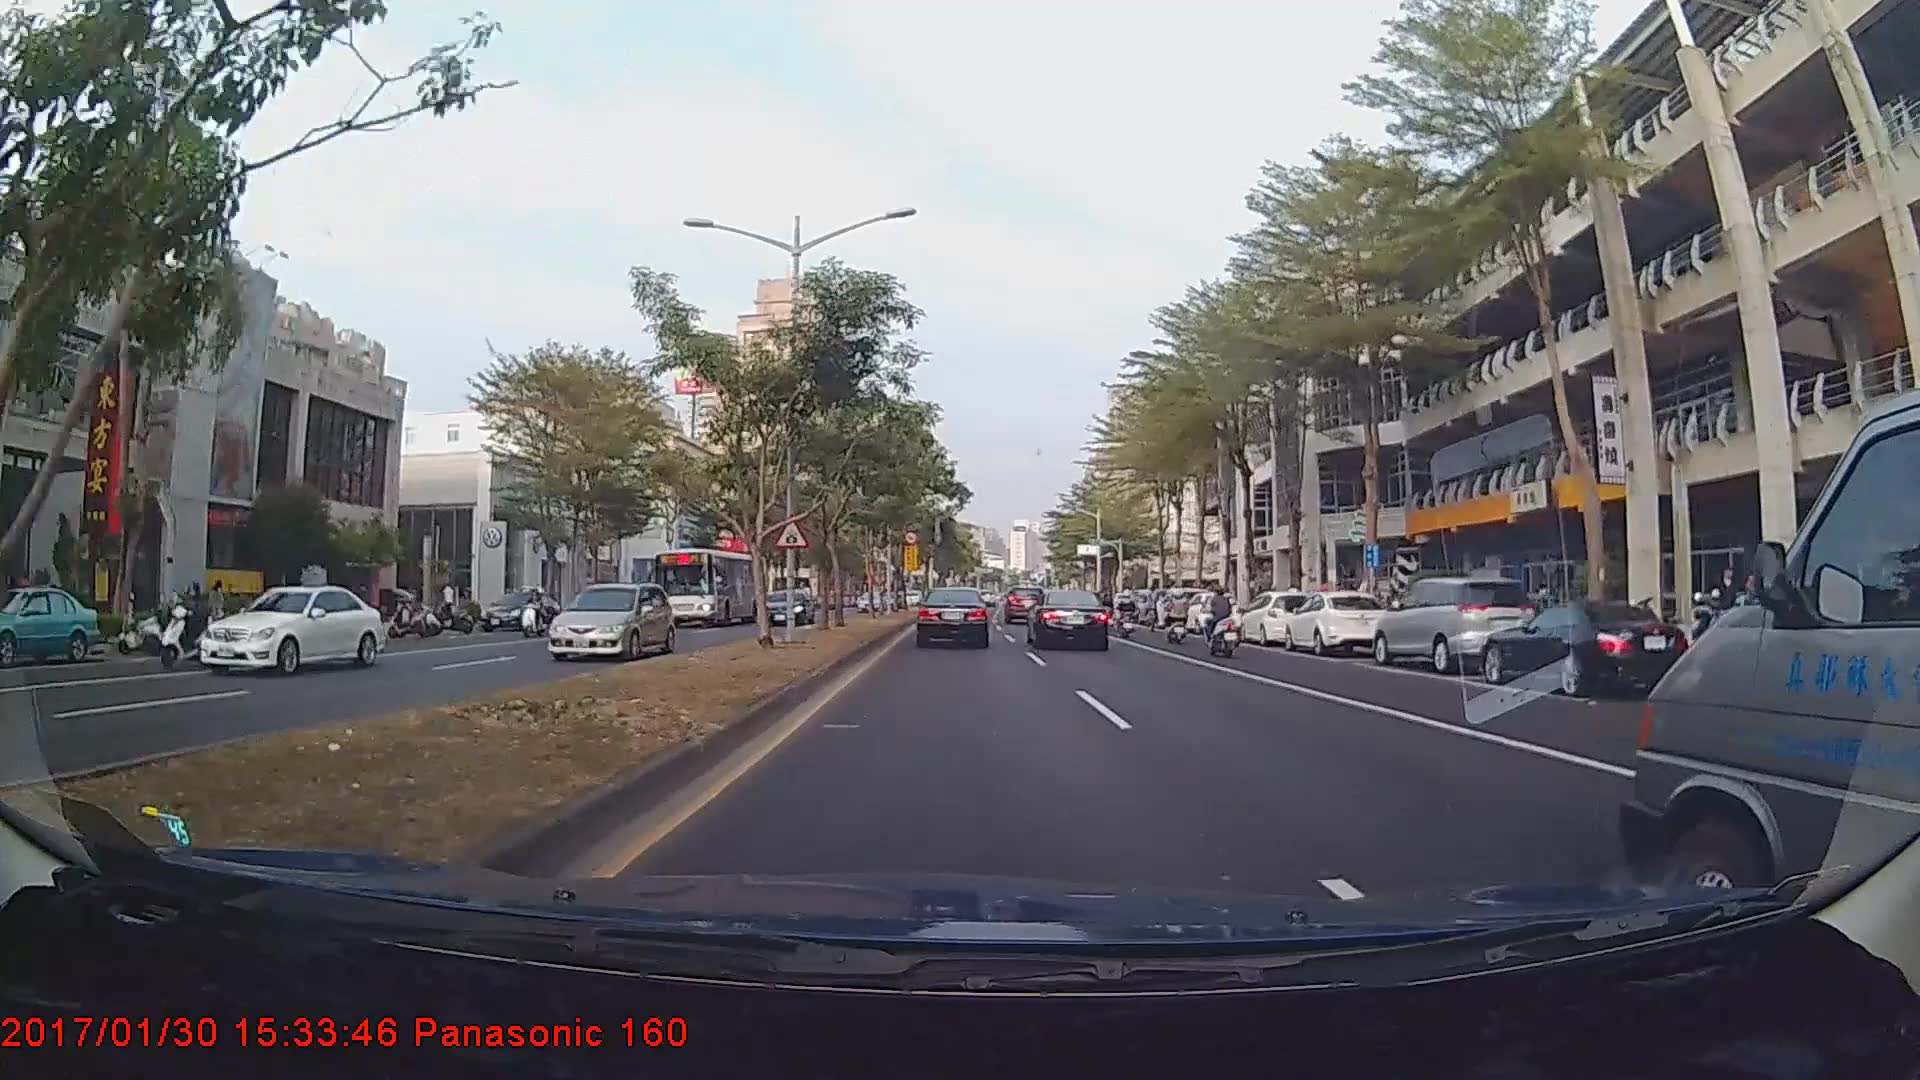rider: (160, 578, 223, 667), (1200, 582, 1249, 660), (1152, 590, 1202, 646), (519, 586, 550, 636), (1113, 586, 1140, 638)
vehicle: (1632, 452, 1911, 884), (1478, 602, 1688, 698), (196, 583, 389, 680), (1373, 571, 1542, 674), (545, 580, 675, 662), (649, 548, 762, 629), (0, 587, 101, 665), (1282, 588, 1390, 653), (1029, 588, 1110, 651), (1233, 588, 1318, 646), (916, 586, 990, 649), (1179, 592, 1240, 633), (759, 589, 812, 625), (1005, 583, 1046, 622)
